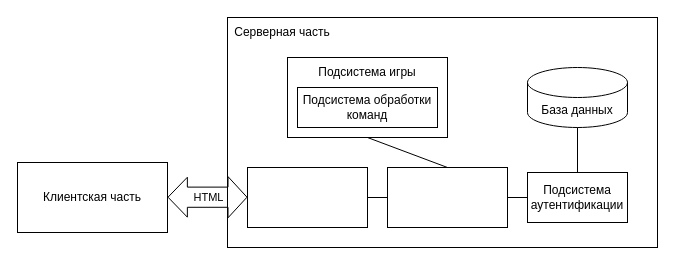
Image size: 675x265. Some labels were removed from this diagram. Here are the shapes that lost their labels. From the top down, the box of each, then its label:
(246, 166, 368, 228): Подсистема взаимодействия серверной частью (JSP/JSF)
(386, 166, 508, 228): Подсистема взаимодействия с клиентской частью (servlets)
